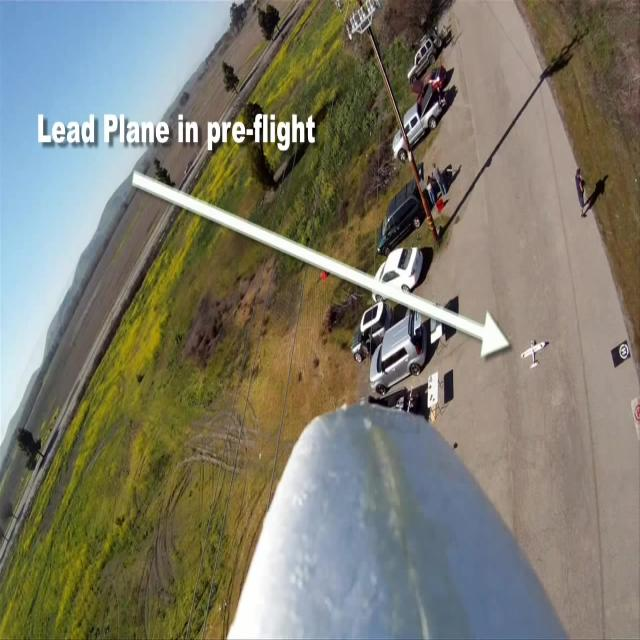iha: (518, 334, 549, 372)
